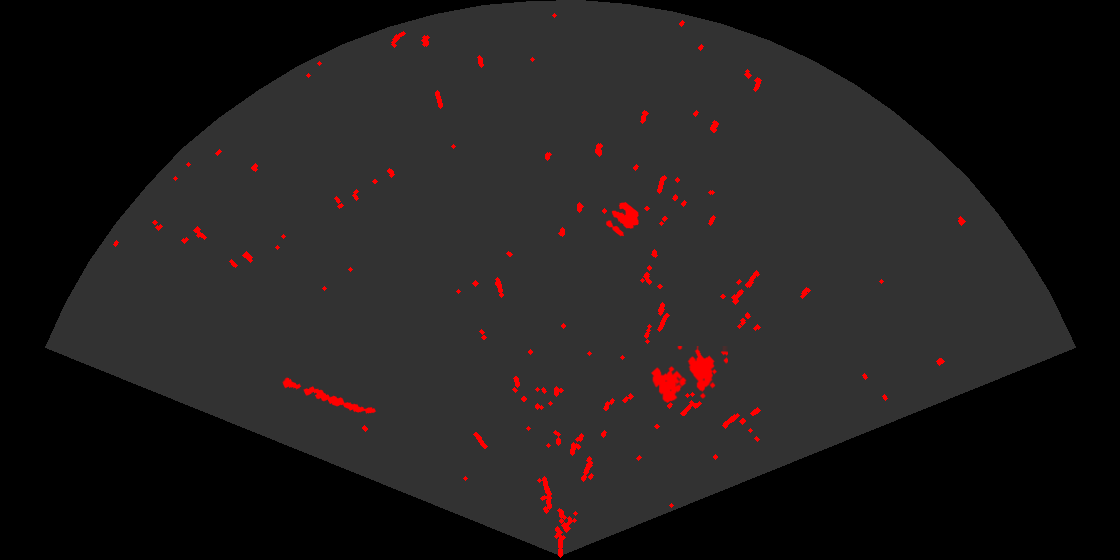ball: (604, 200, 640, 238)
cage: (649, 346, 728, 404)
chain: (281, 376, 377, 415)
